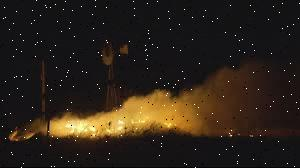fire: (53, 113, 186, 137)
